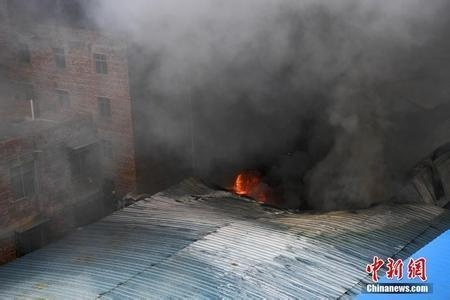fire: (233, 168, 268, 201)
